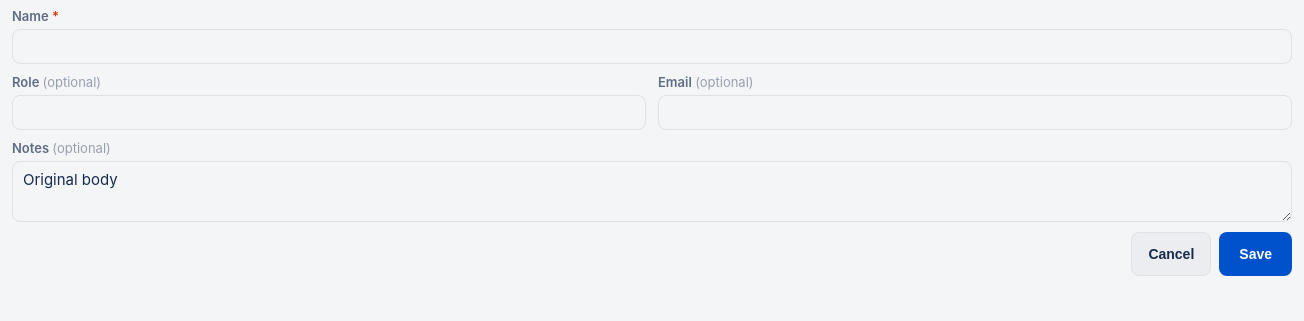
Test: TimelineItemEditForm › contact event type › shows a validation error when contact name is empty
Click the button "Save" at point(1256, 254), box [1219,232,1292,276]
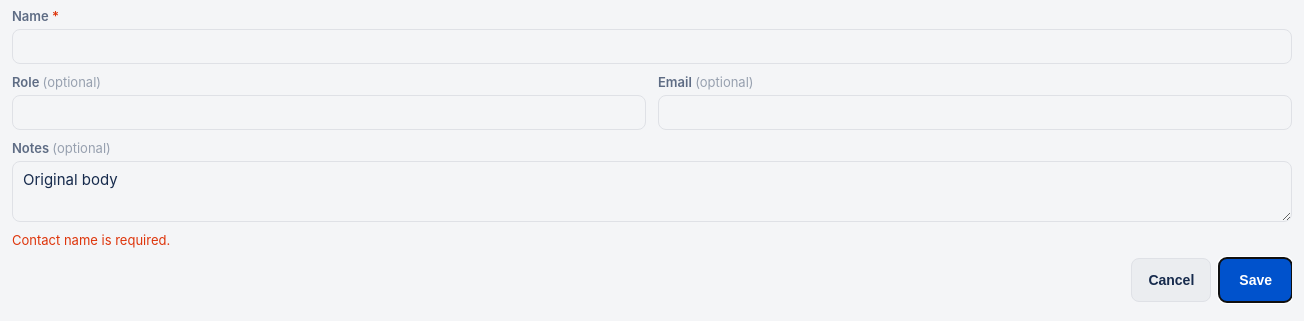
Result: the text "Contact name is required." is shown at [12,232,170,248]
